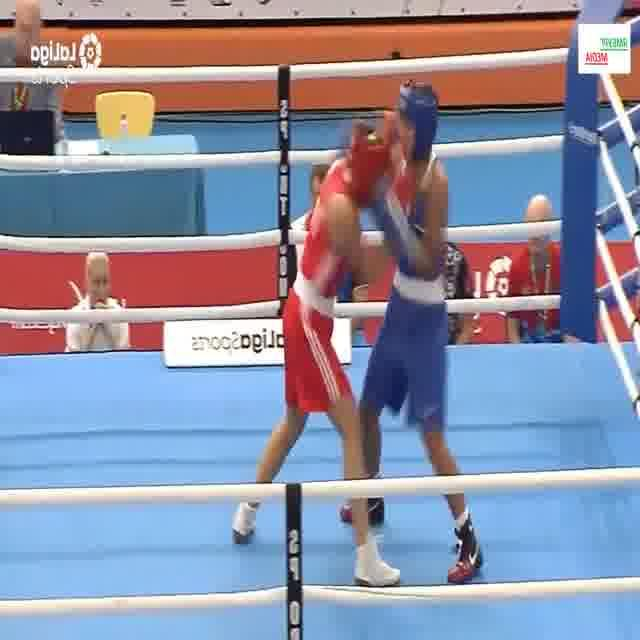blue-player: (336, 75, 484, 590)
red-player: (230, 96, 430, 592)
